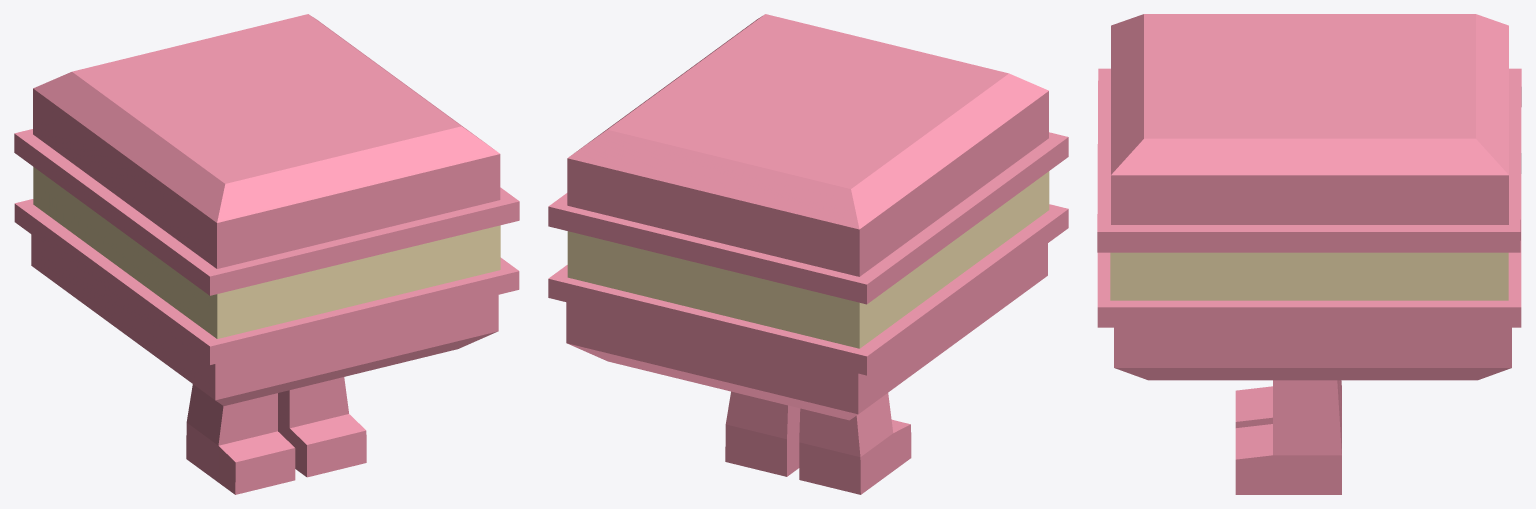
File: st1_block1.fbx
3 renders of one model, left to right at view 1: azimuth 30°, elevation 25°; view 2: azimuth 150°, elevation 25°; view 3: azimuth 270°, elevation 25°, orthographic. The views are drawn at different scales.
Visible parts, largest first — view 1: st1_block1_head, st1_block1__down, st1_block1__middle, st1_block1_L_leg, st11_block1_R_leg; view 2: st1_block1_head, st1_block1__down, st1_block1__middle, st1_block1_L_leg, st11_block1_R_leg; view 3: st1_block1_head, st1_block1__down, st1_block1__middle, st11_block1_R_leg, st1_block1_L_leg.
Boxes of the visible parts, bbox=[...] form: st1_block1_head: bbox=[14, 14, 519, 295]; st1_block1__down: bbox=[14, 199, 519, 405]; st1_block1__middle: bbox=[33, 167, 500, 338]; st1_block1_L_leg: bbox=[186, 384, 295, 494]; st11_block1_R_leg: bbox=[278, 377, 366, 477]; st1_block1_head: bbox=[548, 14, 1068, 304]; st1_block1__down: bbox=[548, 204, 1068, 420]; st1_block1__middle: bbox=[567, 171, 1049, 348]; st1_block1_L_leg: bbox=[799, 393, 911, 494]; st11_block1_R_leg: bbox=[725, 391, 800, 476]; st1_block1_head: bbox=[1097, 14, 1521, 252]; st1_block1__down: bbox=[1097, 144, 1521, 380]; st1_block1__middle: bbox=[1110, 252, 1508, 300]; st11_block1_R_leg: bbox=[1235, 380, 1341, 494]; st1_block1_L_leg: bbox=[1235, 380, 1341, 427].
Bounding box in the file's own units: 437 × 478 × 479.
1 material, 1 textured.
